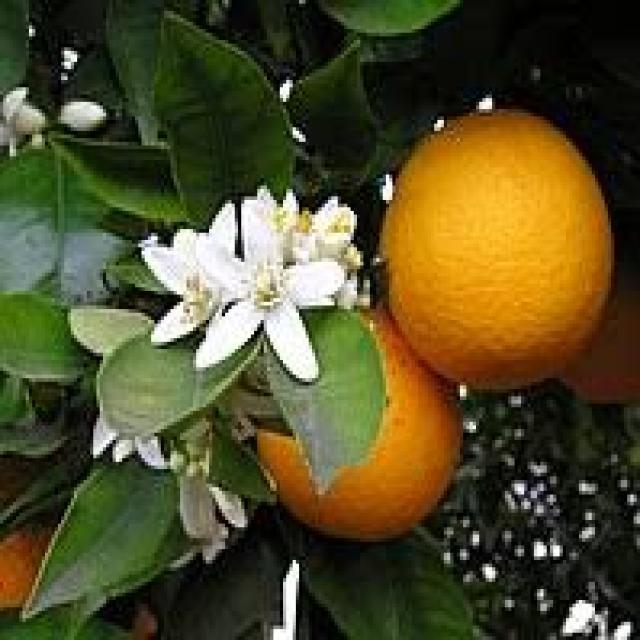Orange: (376, 106, 614, 390), (254, 294, 463, 542)
